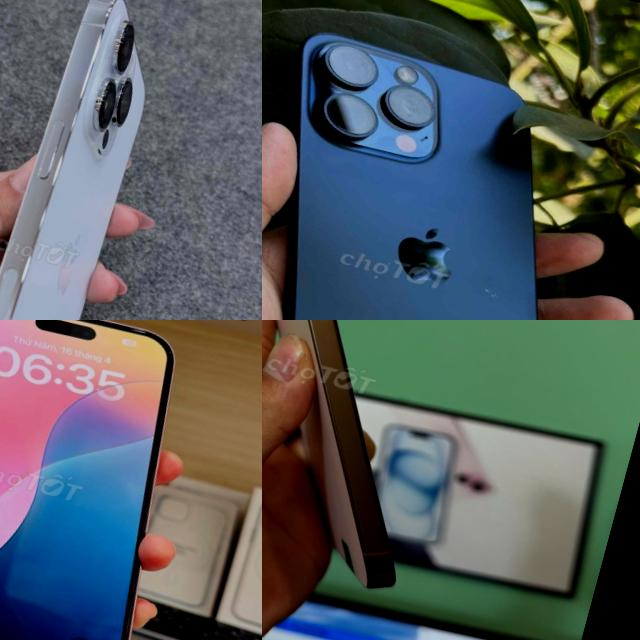gen_14: (0, 0, 186, 320)
gen_15: (262, 10, 640, 320), (0, 320, 231, 640)
gen_16: (275, 320, 394, 586)
scratch: (472, 278, 502, 301)
